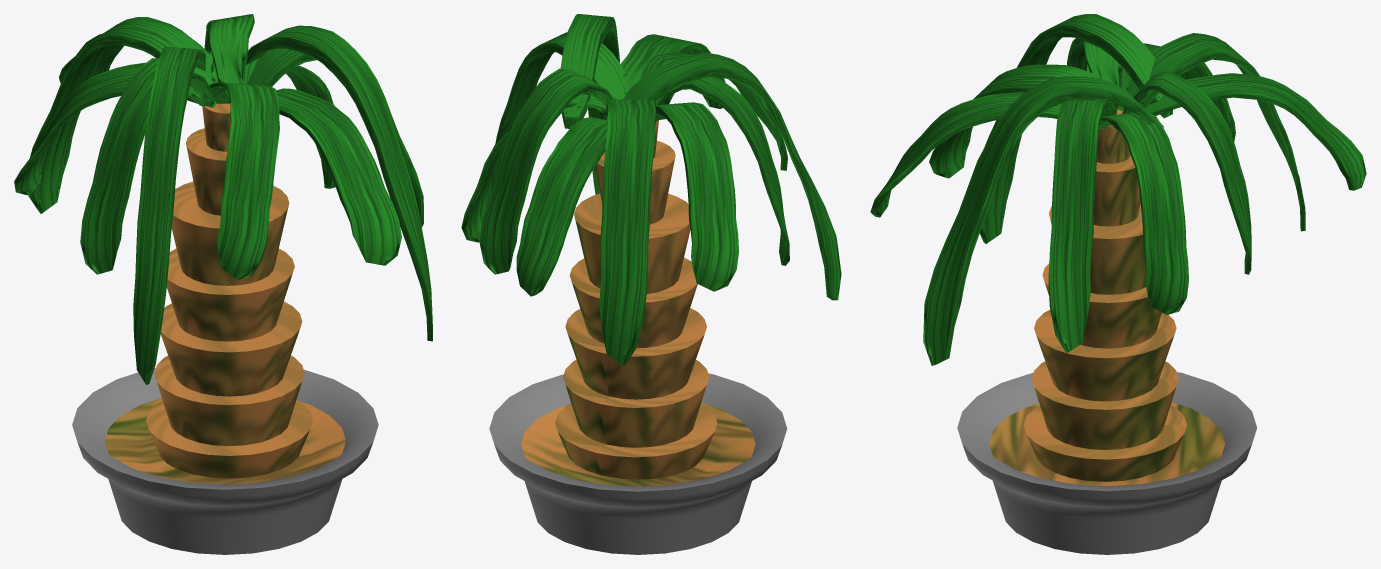
File: Tree_in_pot.FBX
The picture shows the model from 3 angles, left to right: view 1: azimuth 30°, elevation 25°; view 2: azimuth 150°, elevation 25°; view 3: azimuth 270°, elevation 25°; orthographic projection. The views are drawn at different scales.
Parts seen in each view (by area): view 1: Cone008, Box010, Box004, Box013, Box003, Box011, Cone001, Cone006, Cone002, Box007, Cone007, Cone009 (+8 smaller); view 2: Cone008, Box007, Box006, Box012, Box005, Cone006, Cone001, Box010, Cone009, Cone007, Cone003, Cone002 (+7 smaller); view 3: Cone008, Box013, Box008, Box009, Cone006, Cone001, Cone007, Box010, Cone009, Box005, Box012, Box007 (+8 smaller).
Part boxes in pixels (x1,y1,x2,y2): Cone008: (72,367,378,554); Box010: (133,46,205,384); Box004: (204,82,279,279); Box013: (246,25,432,341); Box003: (276,88,401,265); Box011: (80,58,217,274); Cone001: (160,301,302,396); Cone006: (154,355,304,446); Cone002: (166,248,294,341); Box007: (28,17,214,213); Cone007: (146,400,312,478); Cone009: (104,398,345,484); Cone008: (489,373,787,554); Box007: (599,99,656,365); Box006: (655,102,738,291); Box012: (479,68,613,274); Box005: (516,117,607,296); Cone006: (563,359,709,447); Cone001: (565,308,706,399); Box010: (623,52,841,300); Cone009: (521,403,755,486); Cone007: (555,403,717,479); Cone003: (574,193,690,293); Cone002: (569,257,697,348); Cone008: (957,372,1256,554); Box013: (923,76,1163,365); Box008: (1048,99,1117,352); Box009: (1099,112,1188,314); Cone006: (1031,361,1178,449); Cone001: (1034,309,1176,401); Cone007: (1023,405,1186,481); Box010: (979,14,1172,243); Cone009: (989,402,1225,485); Box005: (1145,73,1366,190); Box012: (1122,71,1251,274); Box007: (1123,33,1305,231).
Size of the model in its own units: 72.02 by 98.81 by 96.13.
Materials: 20 (20 with a texture image).
